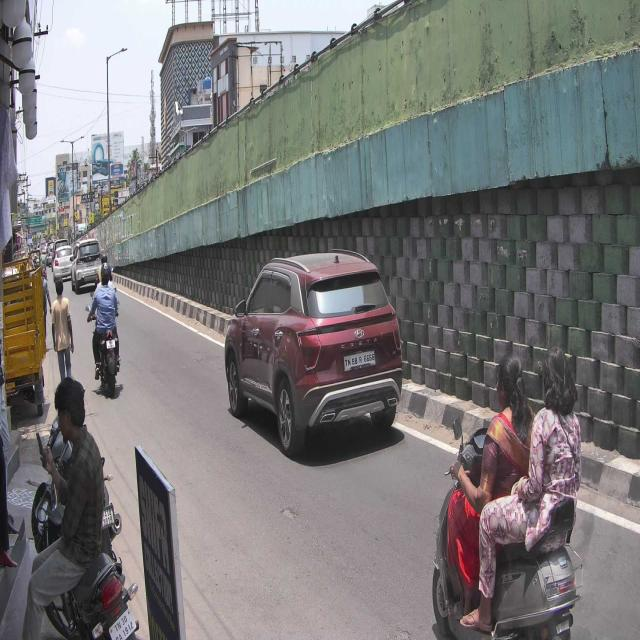double_rider: (431, 338, 584, 640)
